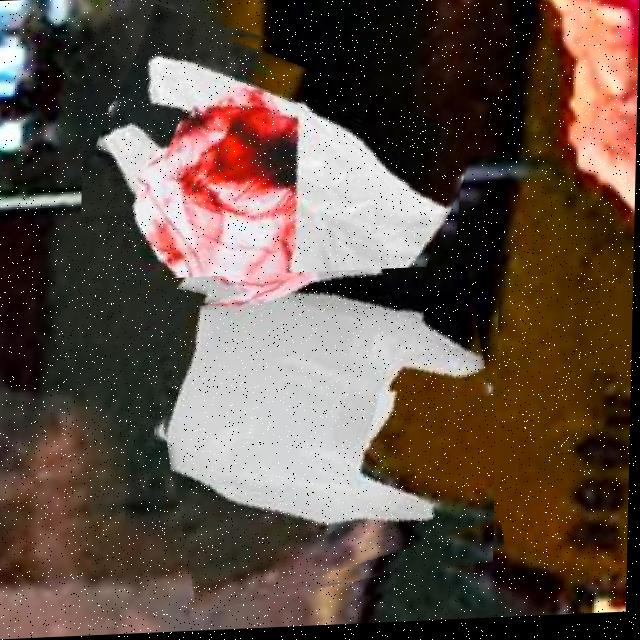litter: (80, 18, 475, 345), (152, 267, 501, 607), (123, 92, 356, 322)
